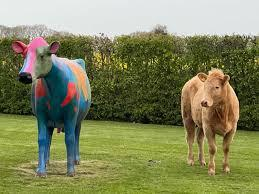cow: (11, 36, 91, 177), (181, 68, 239, 175)
